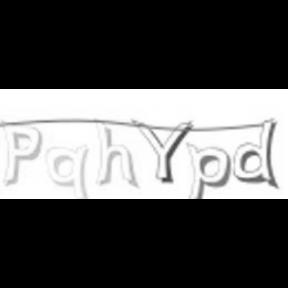P: (0, 117, 42, 187)
Y: (130, 116, 194, 186)
d: (233, 116, 282, 188)
h: (92, 118, 140, 190)
p: (184, 140, 230, 200)
q: (44, 143, 92, 199)
